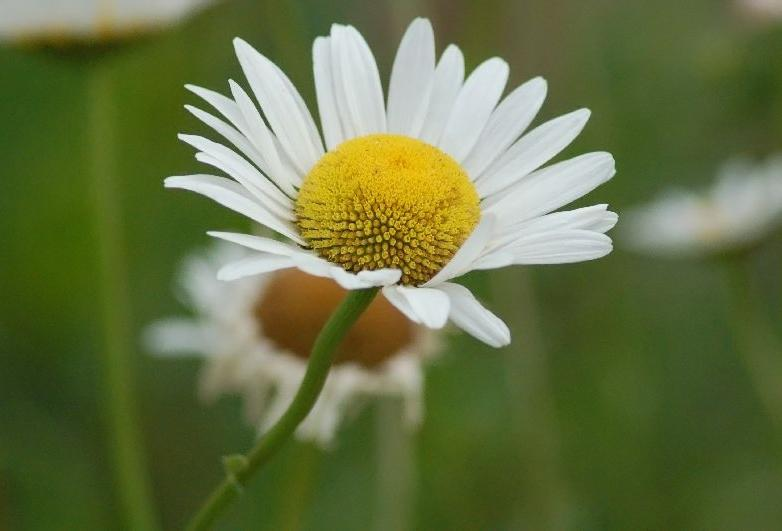daisy: (162, 9, 633, 341)
